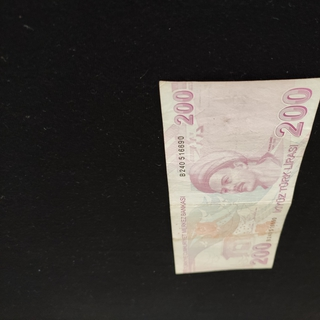200TLBack: (158, 76, 320, 274)
